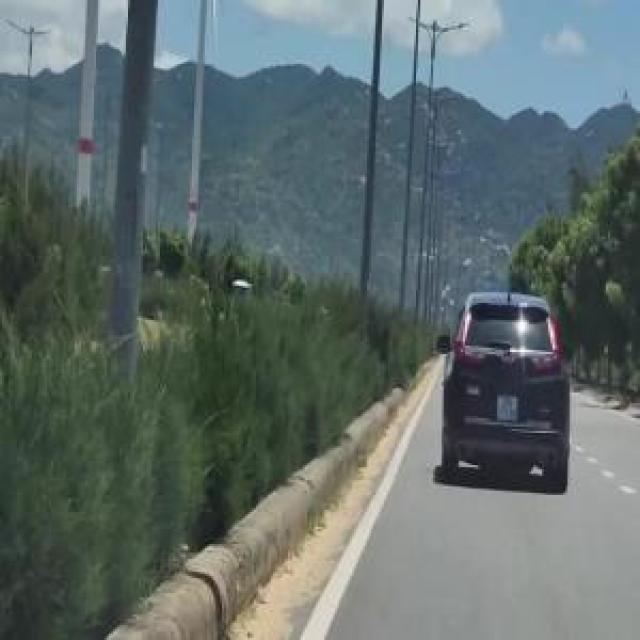clear-road: (325, 375, 640, 640)
